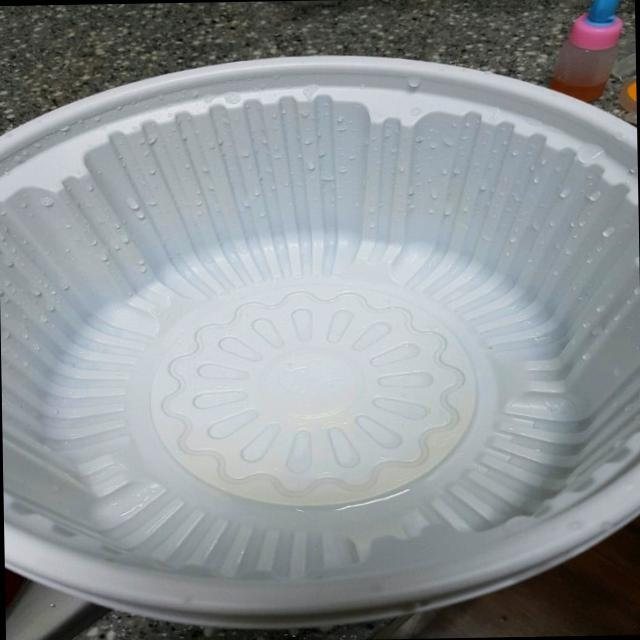bottle: (0, 59, 640, 623)
